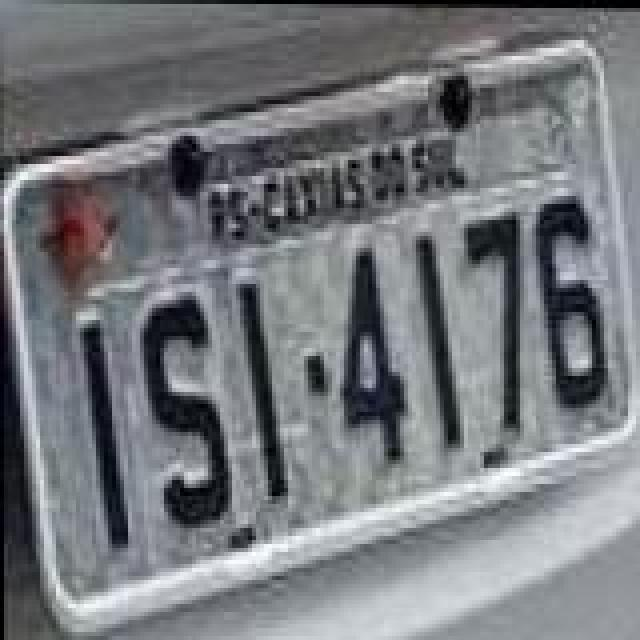1: (76, 316, 128, 552), (236, 282, 288, 510), (412, 234, 464, 450)
4: (340, 248, 408, 464)
6: (534, 192, 606, 404)
7: (462, 214, 518, 430)
S: (140, 292, 232, 528)
